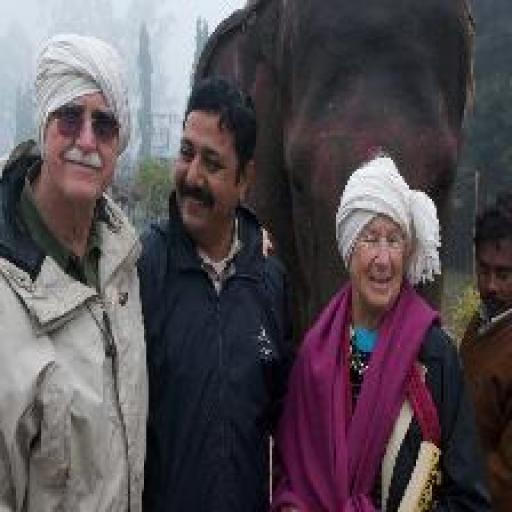Elephant: (189, 0, 475, 338)
